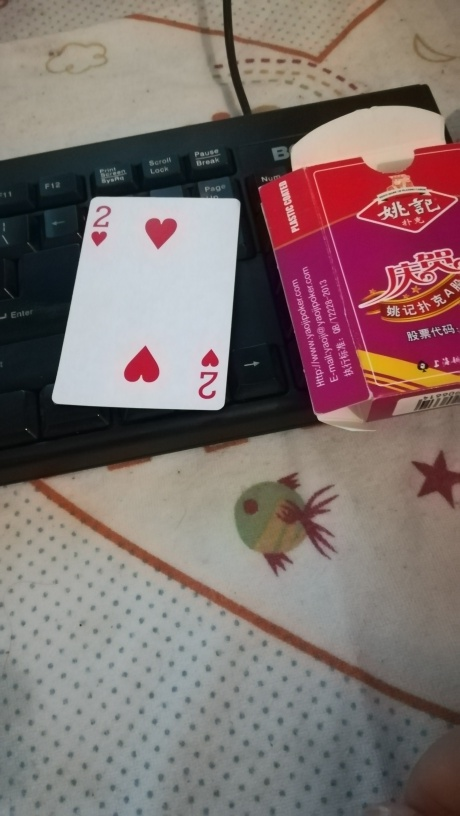hx 2: (49, 195, 241, 411)
